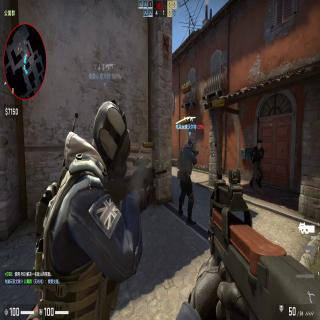CT-Body: (177, 138, 199, 225)
CT-Head: (91, 98, 130, 180), (188, 138, 195, 151)
T-Body: (250, 139, 265, 189)
T-Head: (257, 139, 262, 150)
